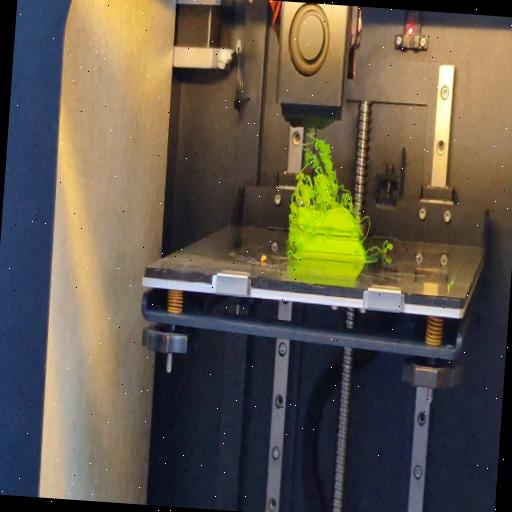spaghetti: (290, 129, 358, 212), (285, 208, 298, 256), (366, 240, 392, 259), (360, 212, 374, 240)
